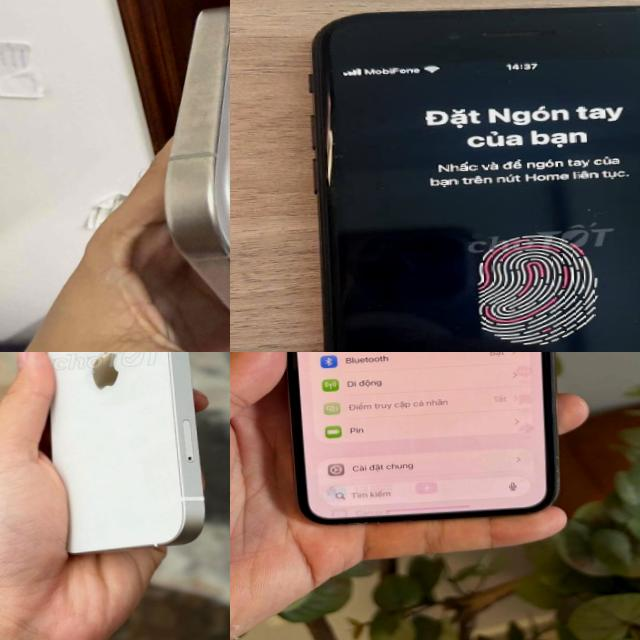scratch: (588, 0, 640, 36), (196, 102, 212, 123)
screen_defect: (309, 80, 348, 186)
